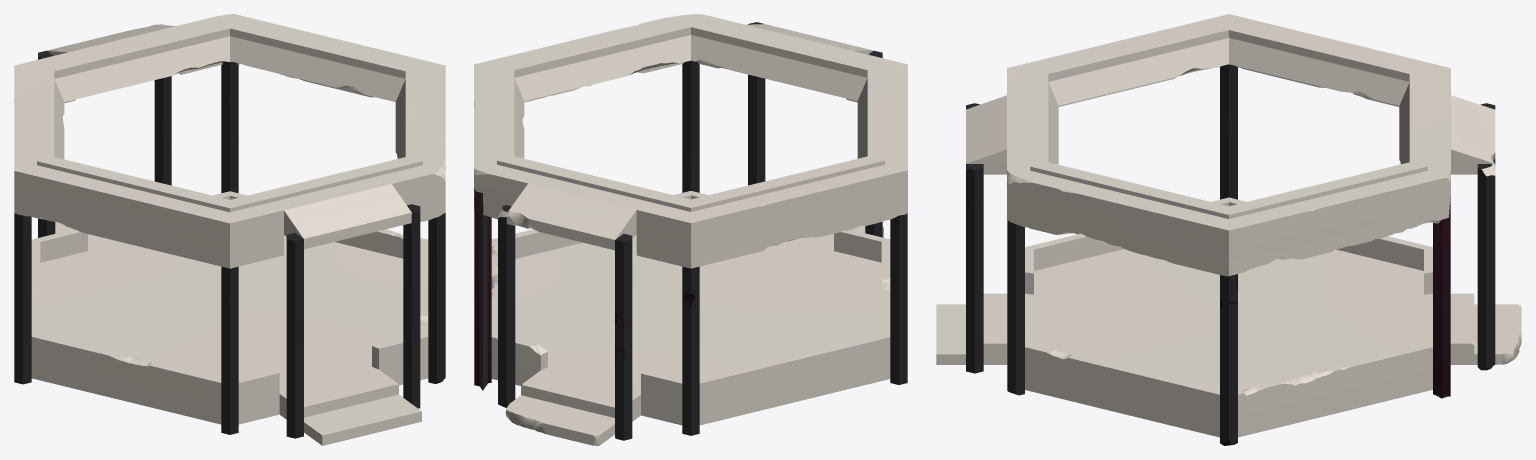
Rendered from start.gltf.
The picture shows the model from 3 angles, left to right: view 1: azimuth 30°, elevation 25°; view 2: azimuth 150°, elevation 25°; view 3: azimuth 270°, elevation 25°; orthographic projection. The views are drawn at different scales.
Parts seen in each view (by area): view 1: starting room.001; view 2: starting room.001; view 3: starting room.001.
Boxes of the visible parts, box(x1,y1,x2,y2) form: starting room.001: box(14, 14, 445, 445); starting room.001: box(474, 14, 907, 445); starting room.001: box(936, 14, 1521, 445).
Size of the model in its own units: 10.86 by 5.32 by 12.39.
1 material, 1 textured.
